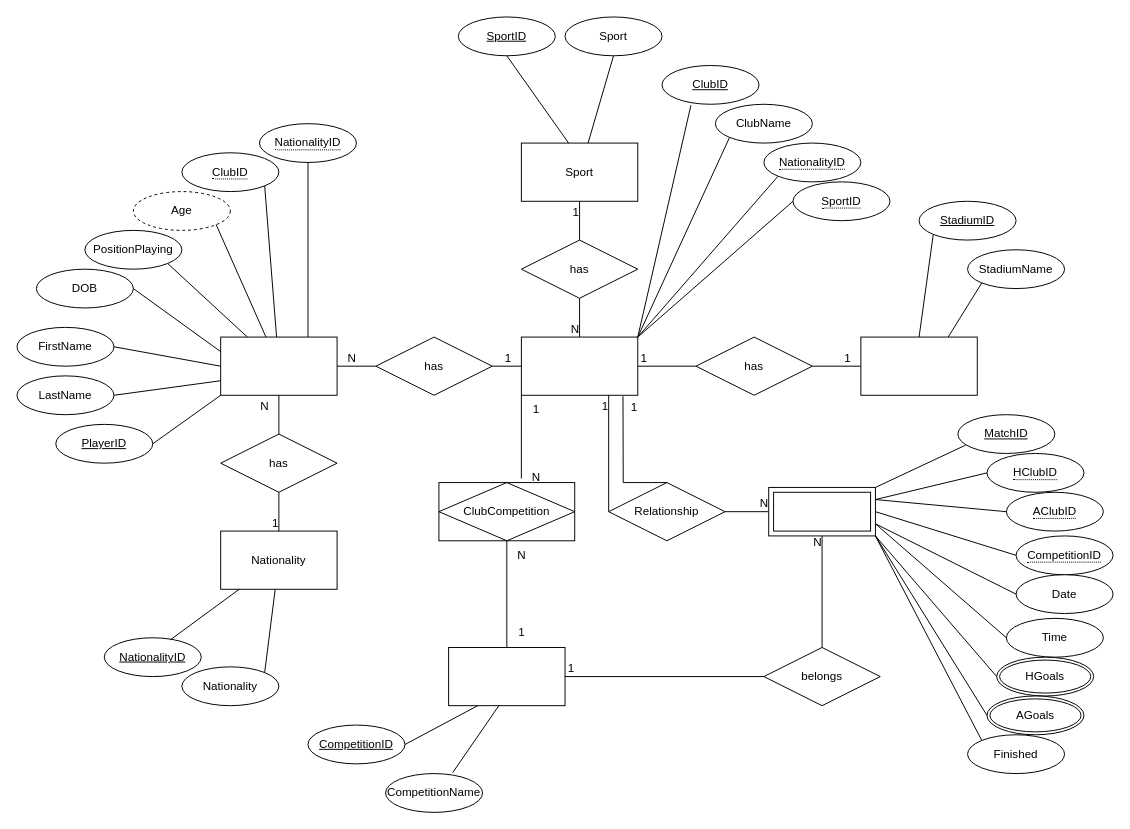
Image size: 1130x829. Some labels were removed from this diagram. Each missing label, with the centre of its shape:
"Club" goes at pixel 579 365.
"Competition" goes at pixel 506 676.
"Match" goes at pixel 821 511.
"Player" goes at pixel 278 365.
"Stadium" goes at pixel 918 365.
